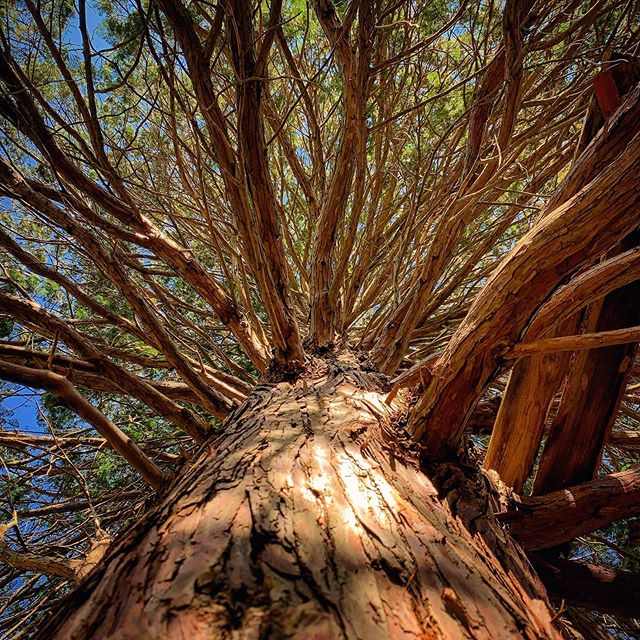tree: (21, 1, 640, 630)
